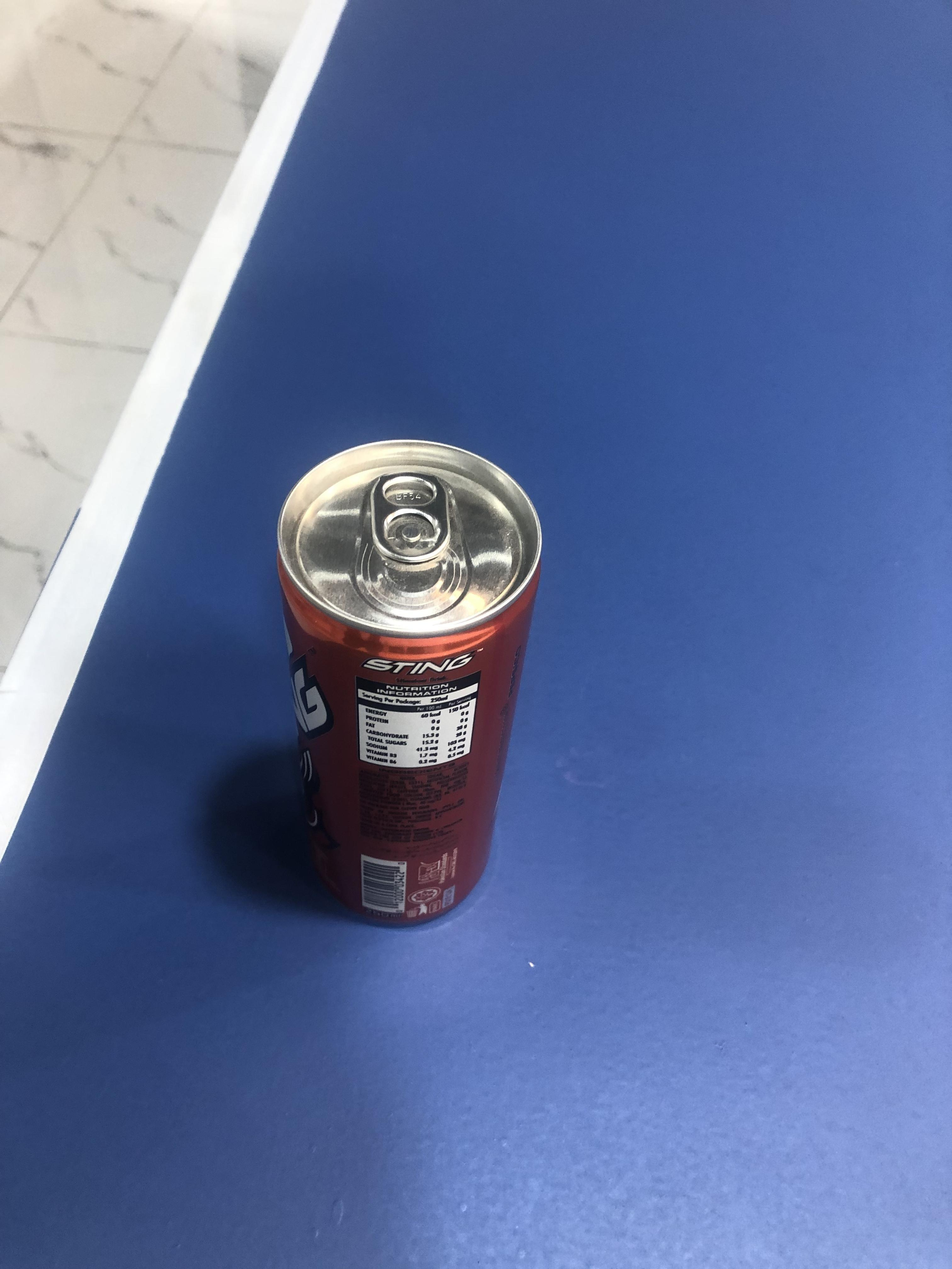tin can: (271, 432, 555, 928)
